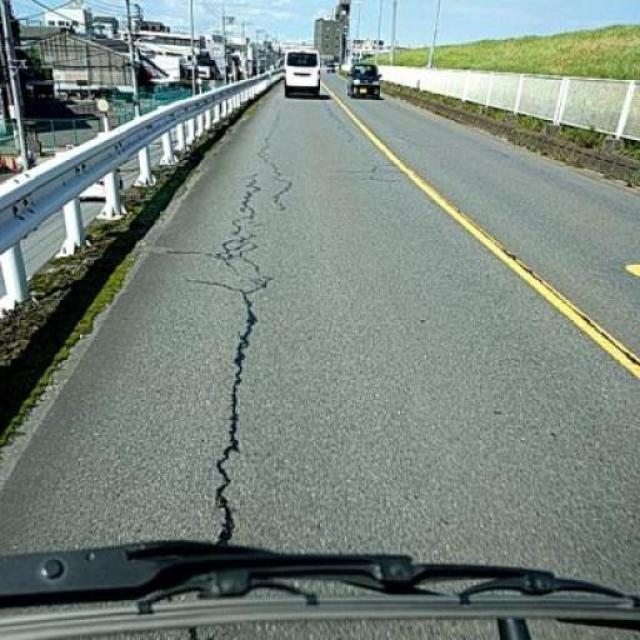Guard rail: (0, 67, 276, 333)
